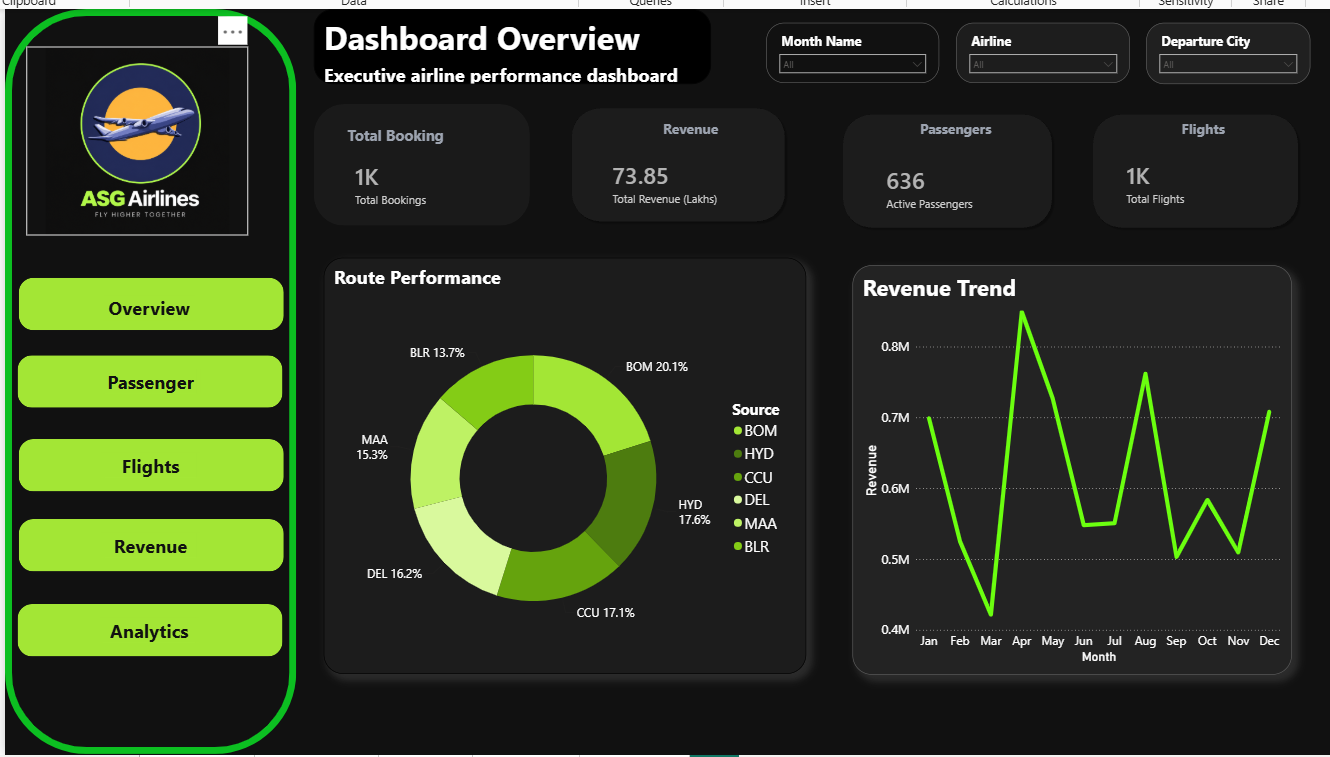

What the dashboard file says about the page in this screenshot:
{"tool":"powerbi","page":{"name":"Overview","canvas":[1920,1080],"ordinal":0},"visuals":[{"type":"shape","box":[0,0,421.7,1078.6],"z":0},{"type":"textbox","title":"Dashboard Overview","box":[447,0,575.5,108.6],"z":1000},{"type":"image","box":[30.8,54.3,322.1,273.3],"z":2000},{"type":"shape","box":[19.9,389.1,383.6,76],"z":3000},{"type":"textbox","title":"Overview","box":[137.5,414.4,143,36.2],"z":4000},{"type":"shape","box":[18.1,501.3,383.6,76],"z":5000},{"type":"shape","box":[19.9,622.5,383.6,76],"z":6000},{"type":"shape","box":[19.9,738.3,383.6,76],"z":7000},{"type":"shape","box":[18.1,861.4,383.6,76],"z":8000},{"type":"textbox","title":"Passengers","box":[139.3,521.2,143,36.2],"z":9000},{"type":"textbox","title":"Flights","box":[139.3,642.4,143,36.2],"z":10000},{"type":"textbox","title":"Analytics","box":[137.5,881.3,143,36.2],"z":11000},{"type":"textbox","title":"Revenue","box":[139.3,758.2,143,36.2],"z":12000},{"type":"shape","box":[447.8,136.7,313.1,176.3],"z":13000},{"type":"textbox","title":"Total Booking","box":[477.8,168.3,175.5,38],"z":14000},{"type":"shape","box":[814.4,136.7,321,176.3],"z":15000},{"type":"shape","box":[1206.7,146.6,315,176.3],"z":16000},{"type":"textbox","title":"Revenue","box":[872.3,159.3,240.7,86.9],"z":17000},{"type":"textbox","box":[1022.5,389.1,224.4,86.9],"z":18000},{"type":"shape","box":[1569.3,146.6,309.1,176.3],"z":19000},{"type":"textbox","title":"Passengers","box":[1255.9,159.3,240.7,86.9],"z":20000},{"type":"textbox","title":"Flights","box":[1614.2,159.3,240.7,86.9],"z":21000},{"type":"cardVisual","fields":{"Data":["bookings.Total Bookings"]},"box":[477.5,190.2,283.3,114.9],"z":22000},{"type":"cardVisual","fields":{"Data":["payments.Total Revenue"]},"box":[850,188.2,283.3,114.9],"z":23000},{"type":"donutChart","title":"Route Performance","fields":{"Category":["flights.source"],"Y":["bookings.Bookings Count"]},"box":[461.5,360.1,698.5,602.6],"z":24000},{"type":"lineChart","title":"Revenue Trend","fields":{"Category":["bookings.Month Name"],"Y":["payments.Revenue"]},"box":[1226.5,370.5,636,592.4],"z":25000},{"type":"cardVisual","fields":{"Data":["bookings.Active Passengers"]},"box":[1246.9,195.4,284.1,114],"z":26000},{"type":"cardVisual","fields":{"Data":["flights.Total Flights"]},"box":[1594.3,188.2,284.1,114],"z":27000},{"type":"slicer","fields":{"Values":["bookings.Month Name"]},"box":[1101.6,20.3,250,87.5],"z":28000},{"type":"slicer","fields":{"Values":["flights.airline"]},"box":[1376.6,20.3,251.6,87.5],"z":29000},{"type":"slicer","fields":{"Values":["flights.source"]},"box":[1653.1,20.3,237.5,89.1],"z":30000}]}

Visuals, with their boxes on the page's 1920x1080 design canvas (x1, y1, x2, y2). These are canvas units, not pixel positions in the 1330x757 screenshot, which may show the page scaled, cropped or inside an application window:
shape: locate(0, 0, 422, 1079)
"Dashboard Overview" textbox: locate(447, 0, 1022, 109)
image: locate(31, 54, 353, 328)
shape: locate(20, 389, 404, 465)
"Overview" textbox: locate(138, 414, 280, 451)
shape: locate(18, 501, 402, 577)
shape: locate(20, 622, 404, 698)
shape: locate(20, 738, 404, 814)
shape: locate(18, 861, 402, 937)
"Passengers" textbox: locate(139, 521, 282, 557)
"Flights" textbox: locate(139, 642, 282, 679)
"Analytics" textbox: locate(138, 881, 280, 918)
"Revenue" textbox: locate(139, 758, 282, 794)
shape: locate(448, 137, 761, 313)
"Total Booking" textbox: locate(478, 168, 653, 206)
shape: locate(814, 137, 1135, 313)
shape: locate(1207, 147, 1522, 323)
"Revenue" textbox: locate(872, 159, 1113, 246)
textbox: locate(1022, 389, 1247, 476)
shape: locate(1569, 147, 1878, 323)
"Passengers" textbox: locate(1256, 159, 1497, 246)
"Flights" textbox: locate(1614, 159, 1855, 246)
cardVisual - bookings.Total Bookings: locate(478, 190, 761, 305)
cardVisual - payments.Total Revenue: locate(850, 188, 1133, 303)
"Route Performance" donutChart: locate(462, 360, 1160, 963)
"Revenue Trend" lineChart: locate(1226, 370, 1862, 963)
cardVisual - bookings.Active Passengers: locate(1247, 195, 1531, 309)
cardVisual - flights.Total Flights: locate(1594, 188, 1878, 302)
slicer - bookings.Month Name: locate(1102, 20, 1352, 108)
slicer - flights.airline: locate(1377, 20, 1628, 108)
slicer - flights.source: locate(1653, 20, 1891, 109)
